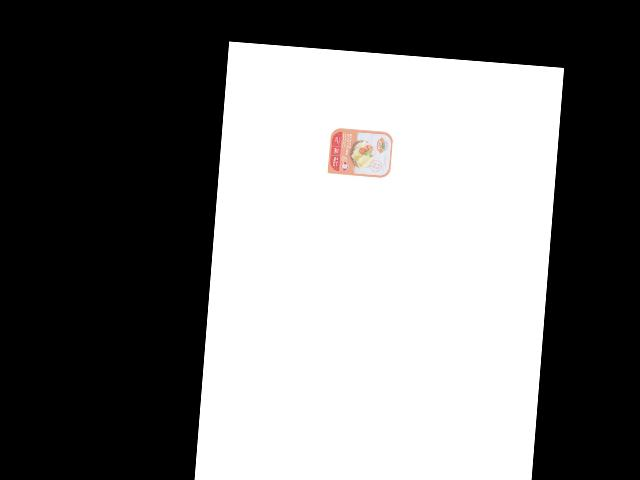cheese: (323, 124, 395, 179)
